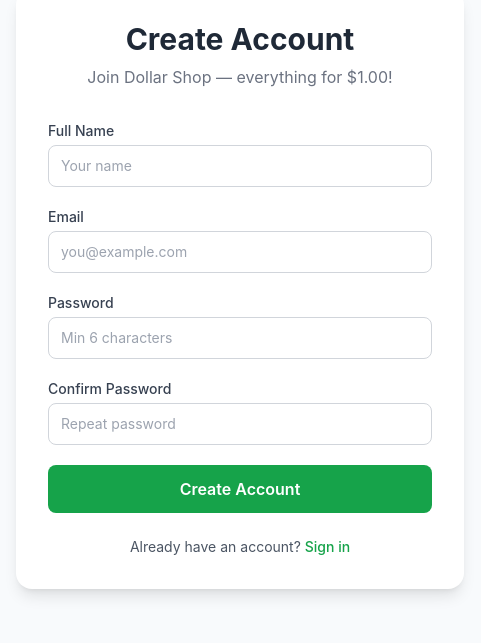
RegisterPage › shows error for invalid email format
Type "Alice" into the field with placeholder "Your name" at (240, 166), box [48,145,432,187]
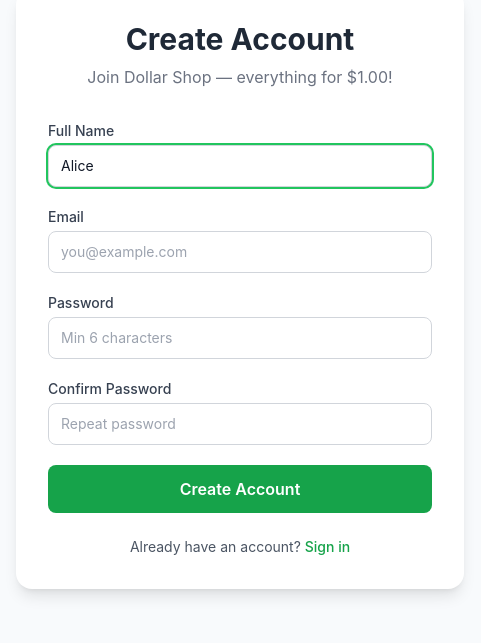
Type "notanemail" into the field with placeholder "you@example.com" at (240, 252), box [48,231,432,273]
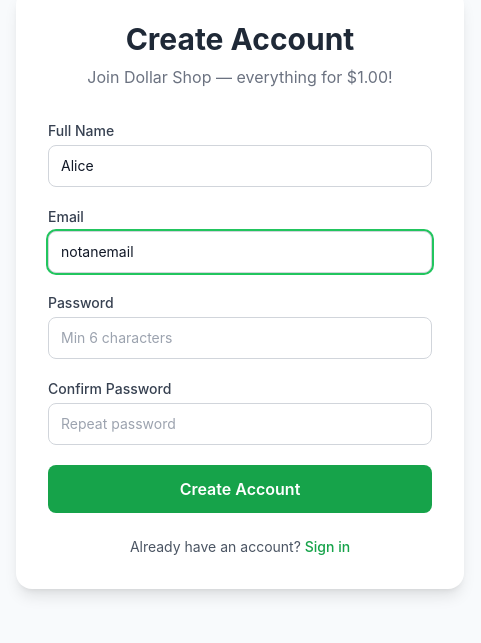
Submit the form "Full Name Email Password Confirm Password Create Account", box [48,121,432,513]
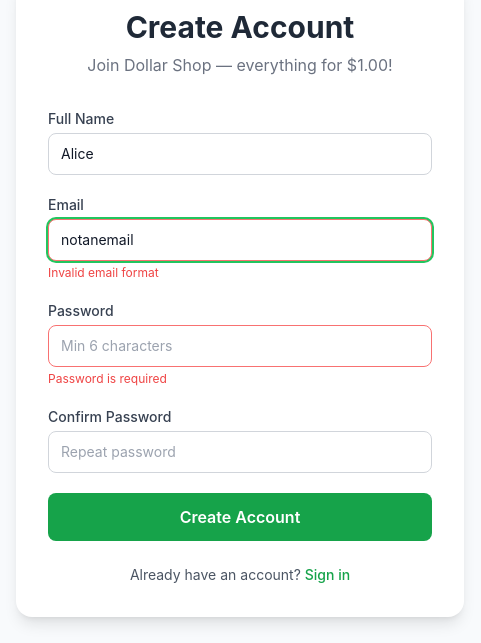
Check: the text "Invalid email format" is shown, box [48,265,159,280]
